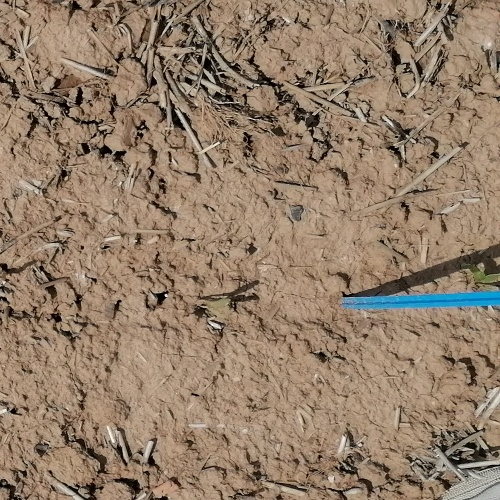beet: (473, 261, 500, 291)
